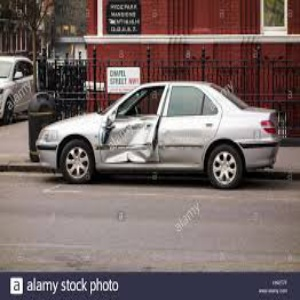door: (123, 116, 171, 162)
